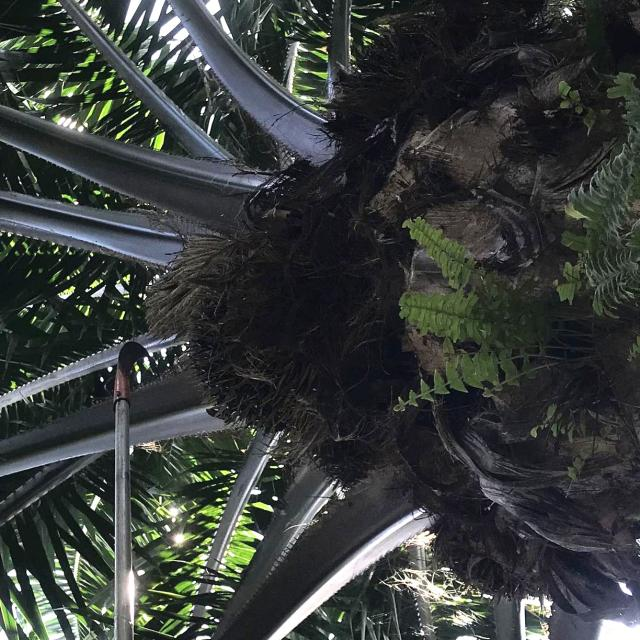unripe: (184, 198, 430, 493), (428, 502, 600, 618)
